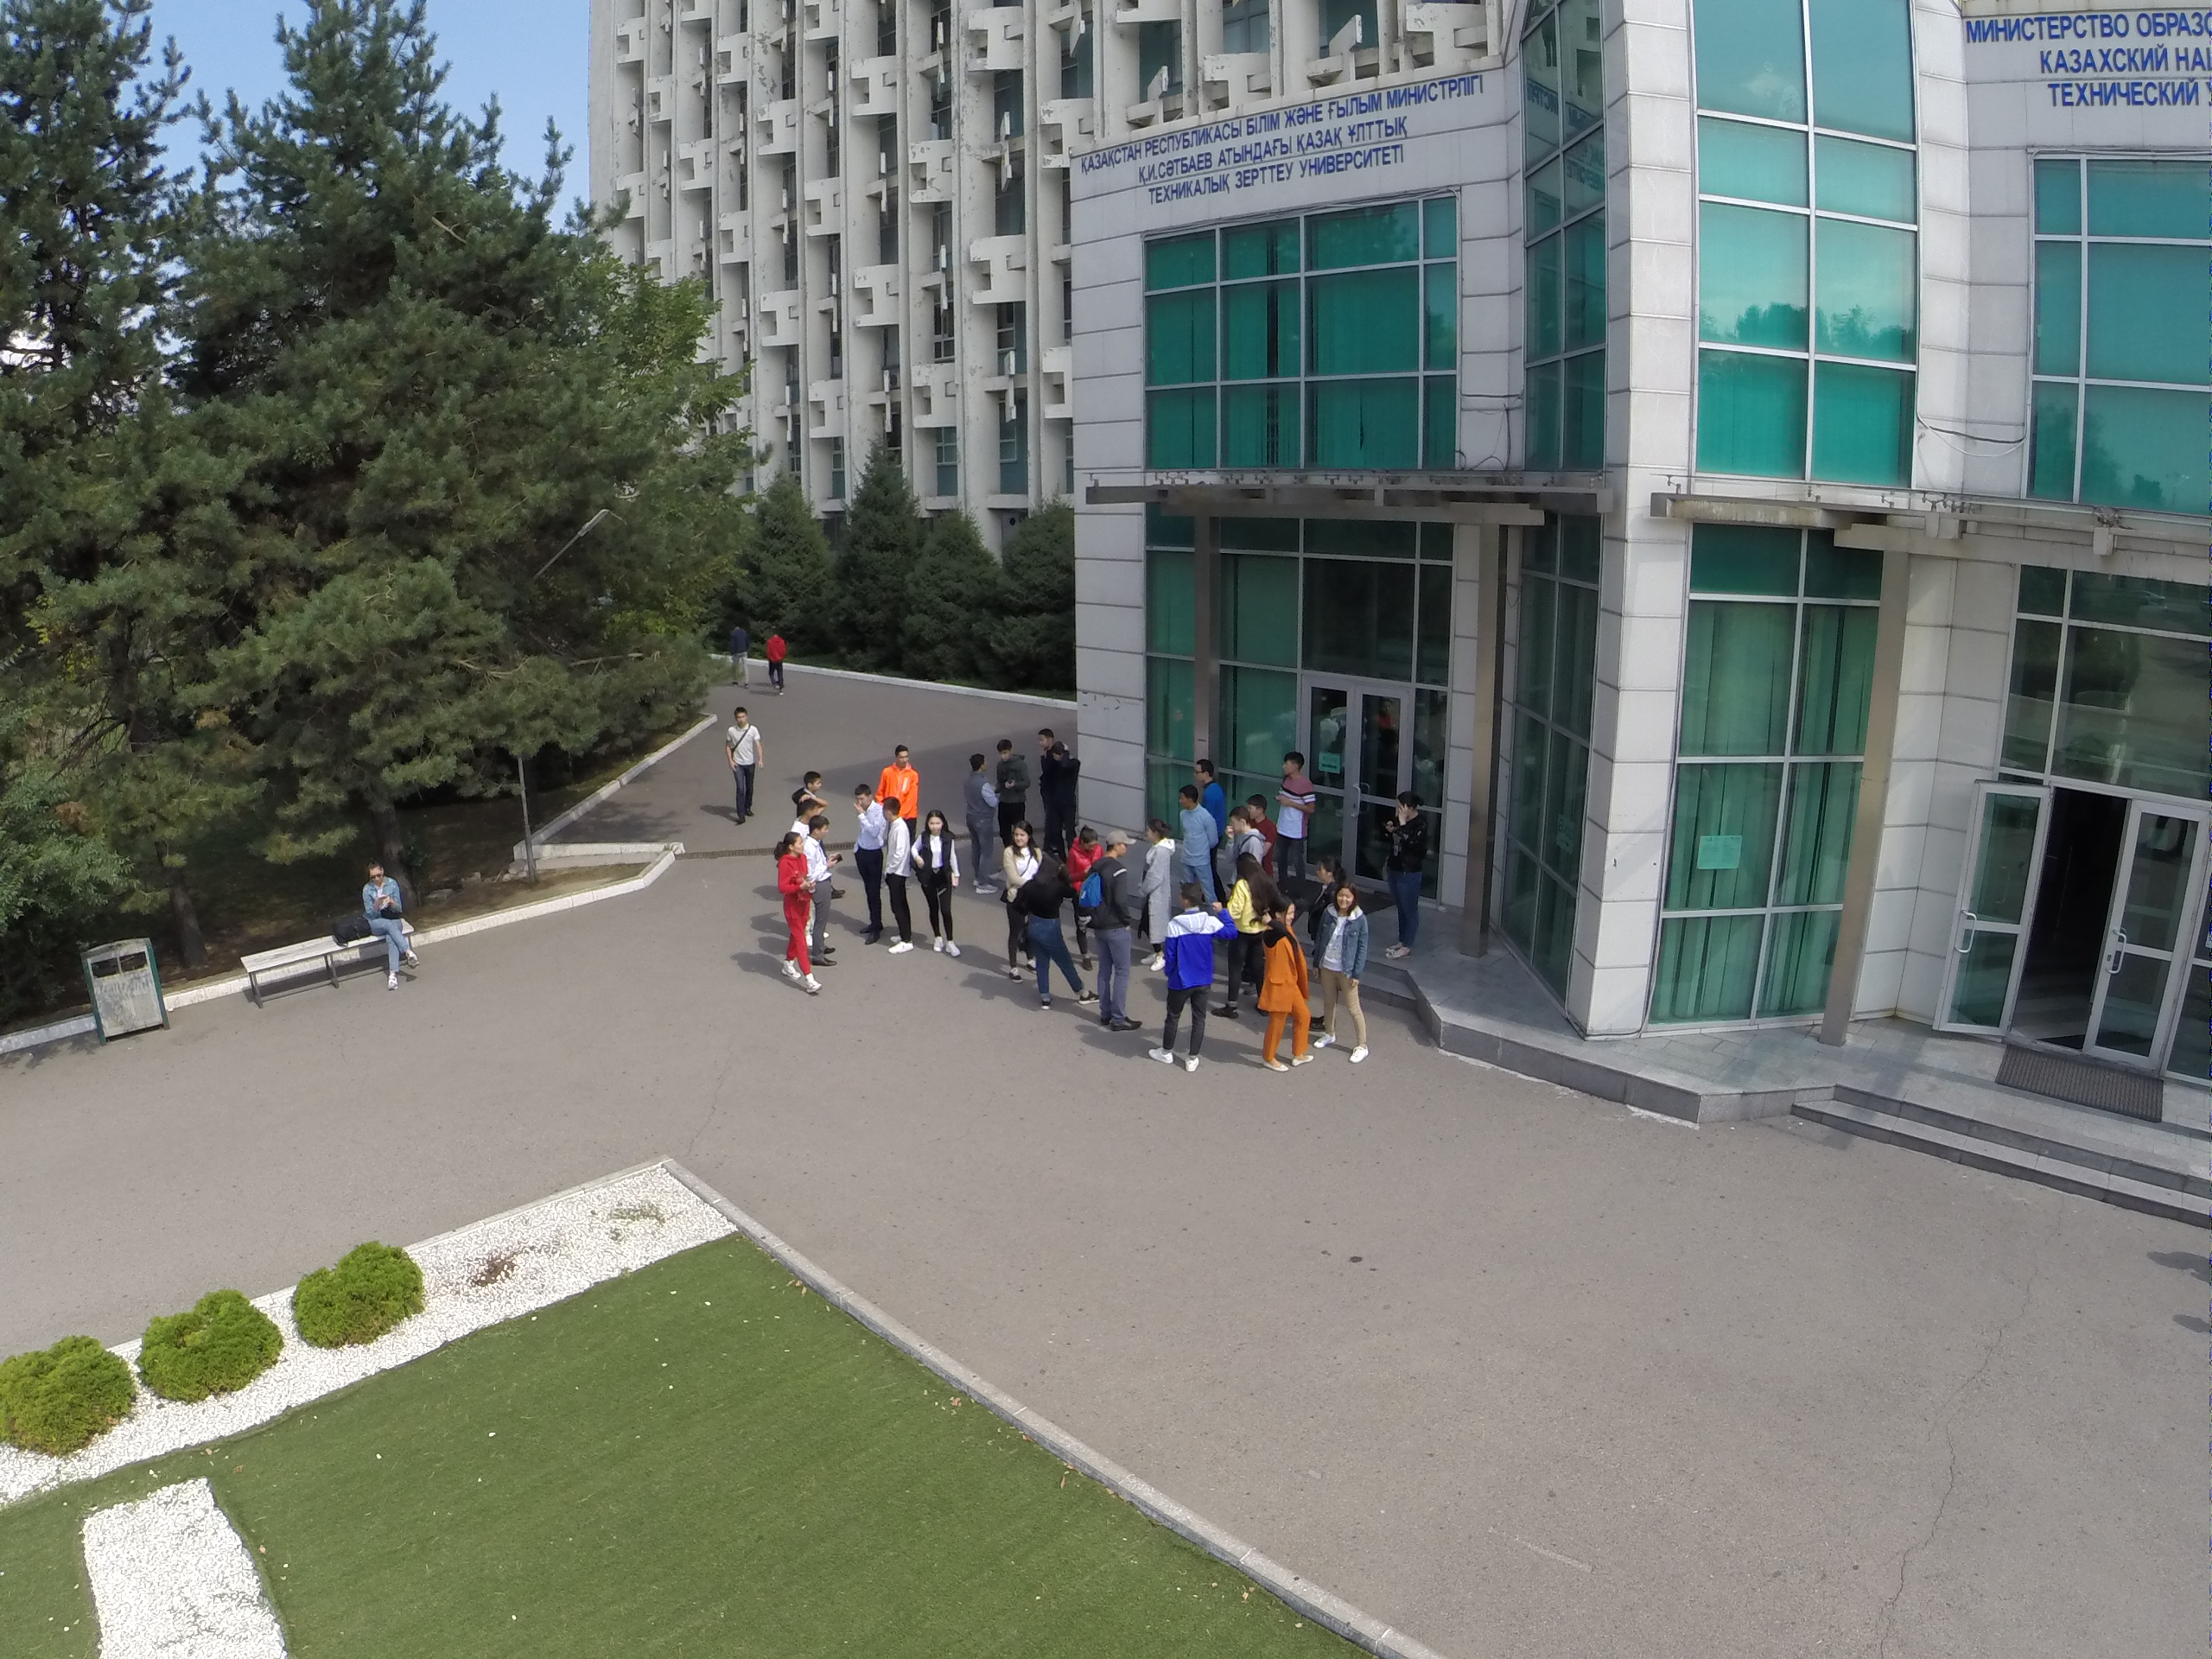person: (1143, 878, 1231, 1076), (1084, 824, 1143, 1040), (1308, 883, 1373, 1069), (1026, 855, 1096, 1015), (1252, 898, 1313, 1081), (1212, 866, 1277, 1020), (768, 836, 825, 1003), (1380, 786, 1433, 965), (356, 859, 420, 1002), (995, 819, 1044, 978), (1136, 815, 1174, 976), (958, 755, 1001, 894), (1274, 749, 1316, 891), (918, 810, 958, 956), (1173, 779, 1219, 894), (850, 788, 880, 950), (806, 818, 838, 971), (882, 796, 913, 956), (1033, 728, 1077, 832), (723, 708, 758, 825), (991, 737, 1032, 828), (1068, 826, 1102, 916), (879, 741, 921, 812), (1186, 750, 1228, 815), (1218, 806, 1259, 864), (728, 621, 754, 686), (767, 629, 786, 697)
